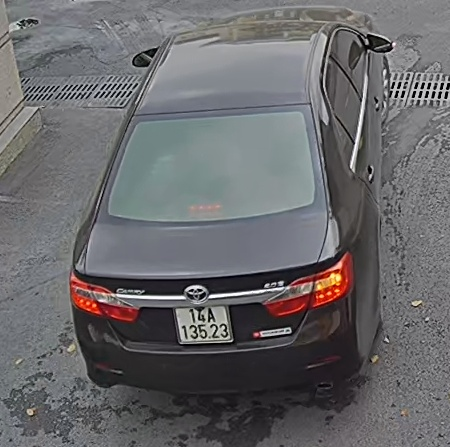vehicle plate: (171, 298, 242, 350)
